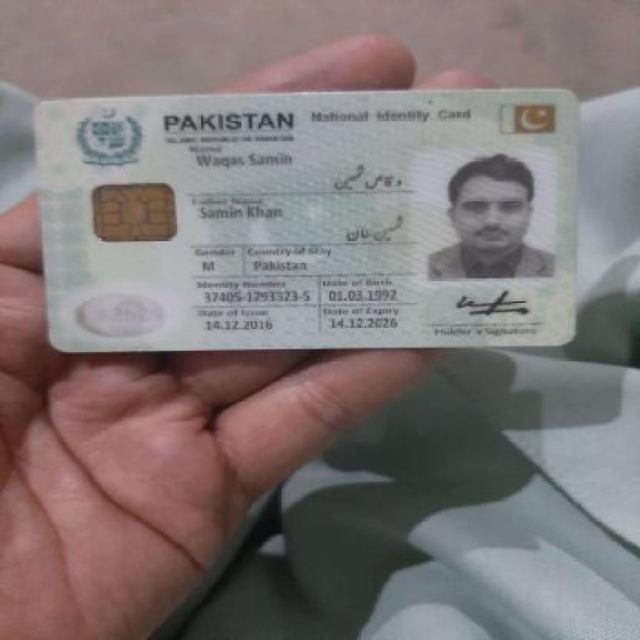Front: (22, 86, 583, 351)
